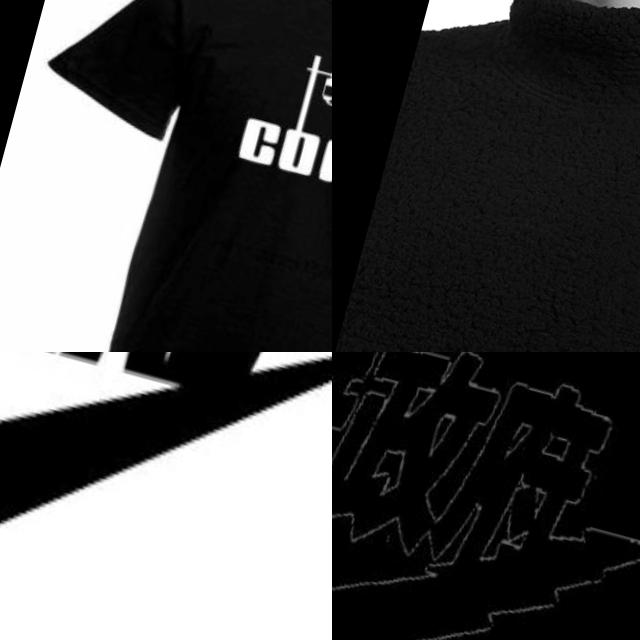NIKE_fake: (0, 352, 332, 640), (332, 352, 640, 640)
PUMA_fake: (224, 27, 332, 241)
